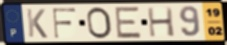9: (178, 5, 202, 40)
E: (114, 6, 143, 40)
F: (51, 7, 78, 40)
H: (146, 6, 177, 39)
K: (25, 8, 49, 40)
O: (85, 6, 114, 40)
